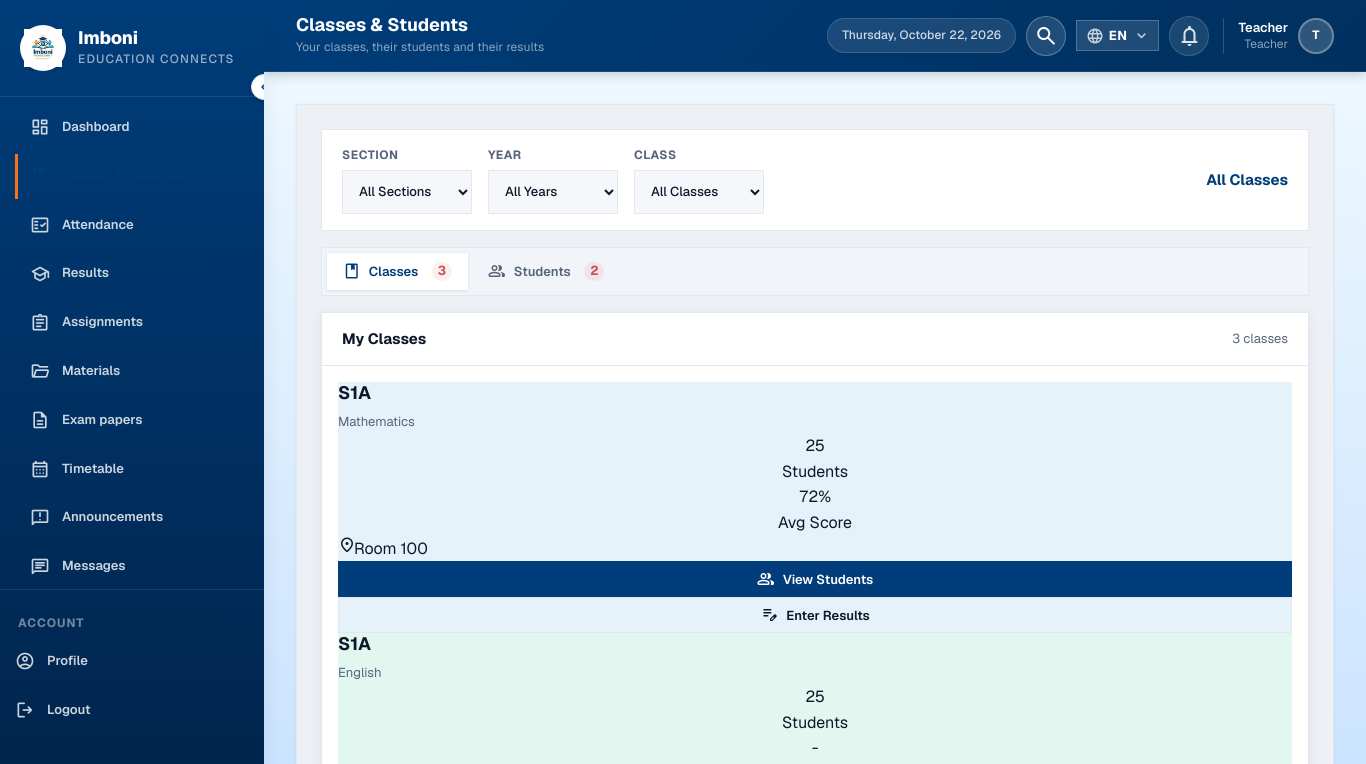
Scenario: TeacherClasses — Classes & Students › students tab › filters students by name search
expect the text "Mathematics" is shown: met, box [338, 412, 415, 430]
Click the tab "Students 2" at (546, 272), box [472, 253, 620, 290]
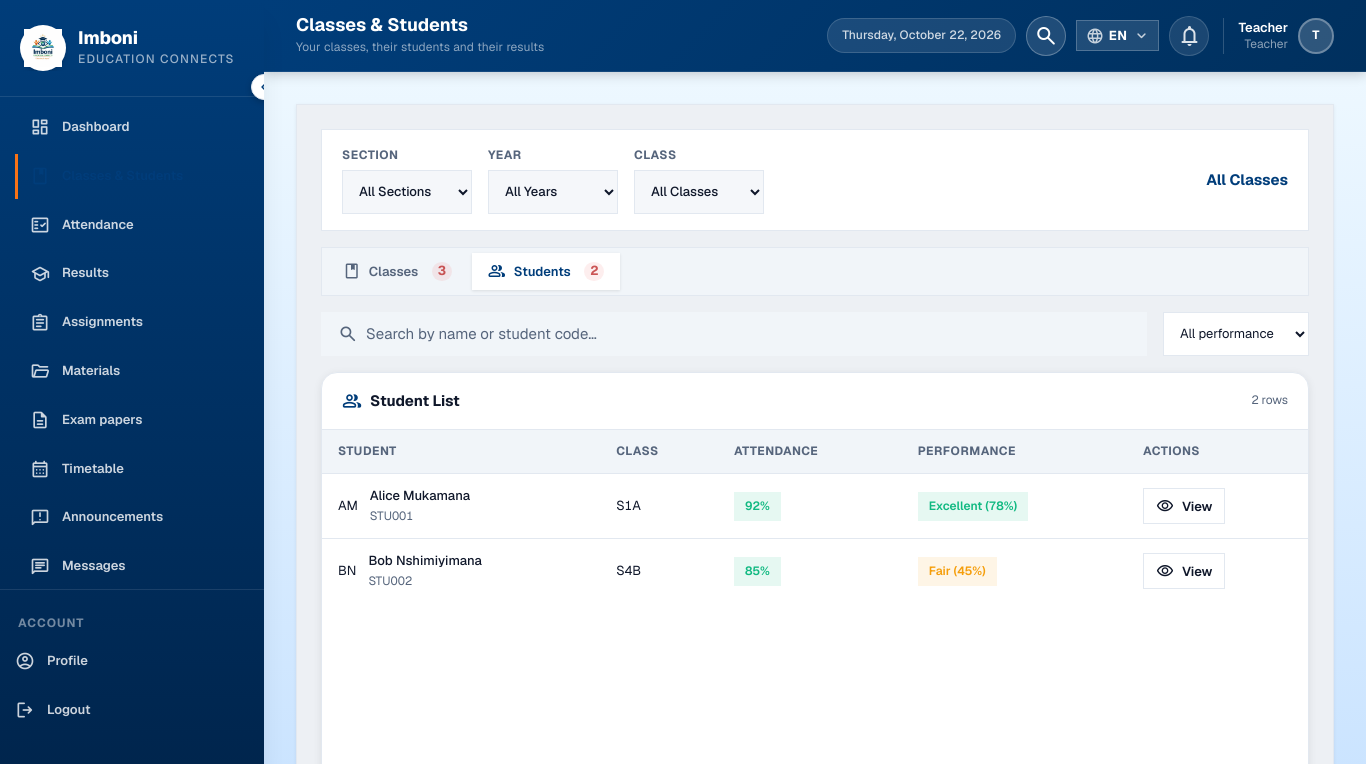
expect the text "Alice Mukamana" is shown: met, box [370, 486, 470, 507]
Type "Bob" into the search field with placeholder "Search by name or student code…" at (748, 334), box [366, 313, 1130, 355]
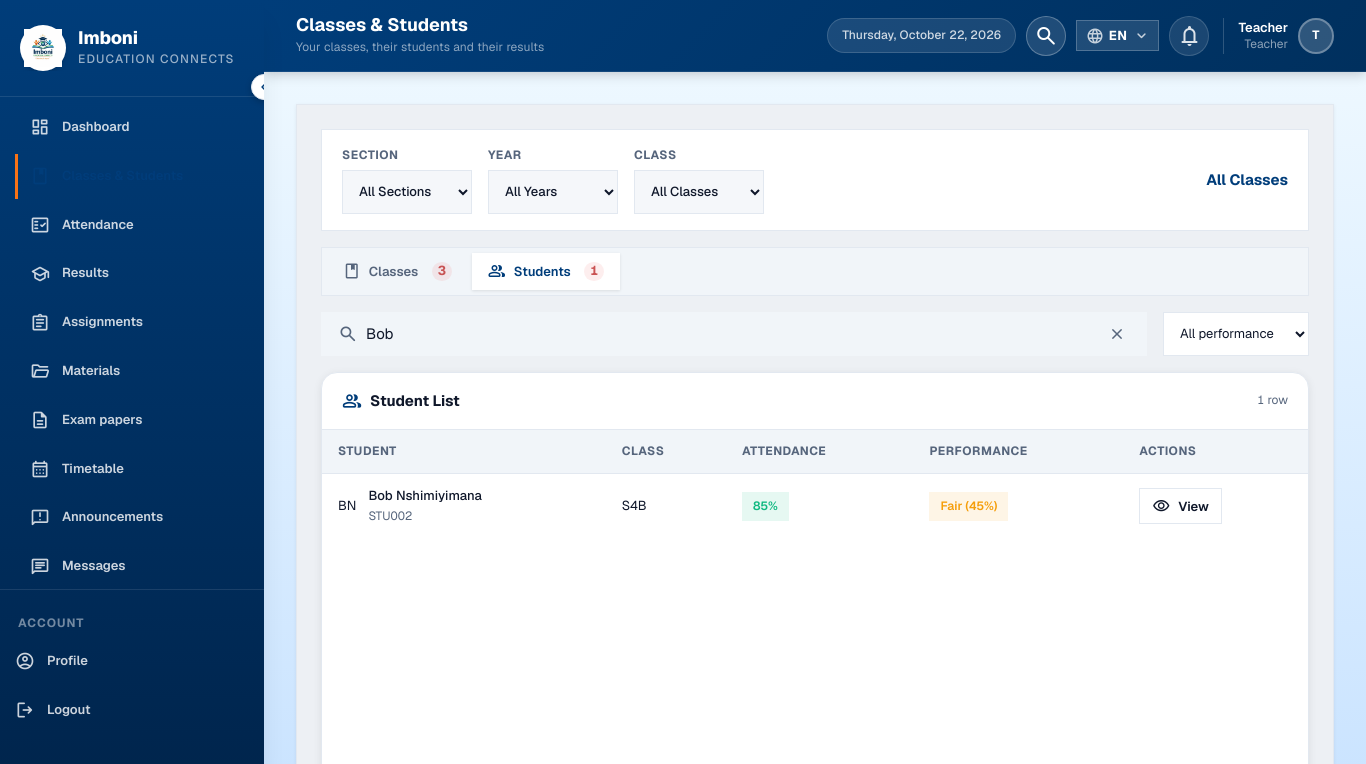
expect the text "Bob Nshimiyimana" is shown: met, box [368, 486, 482, 507]
expect the text "Alice Mukamana" is gone: met
